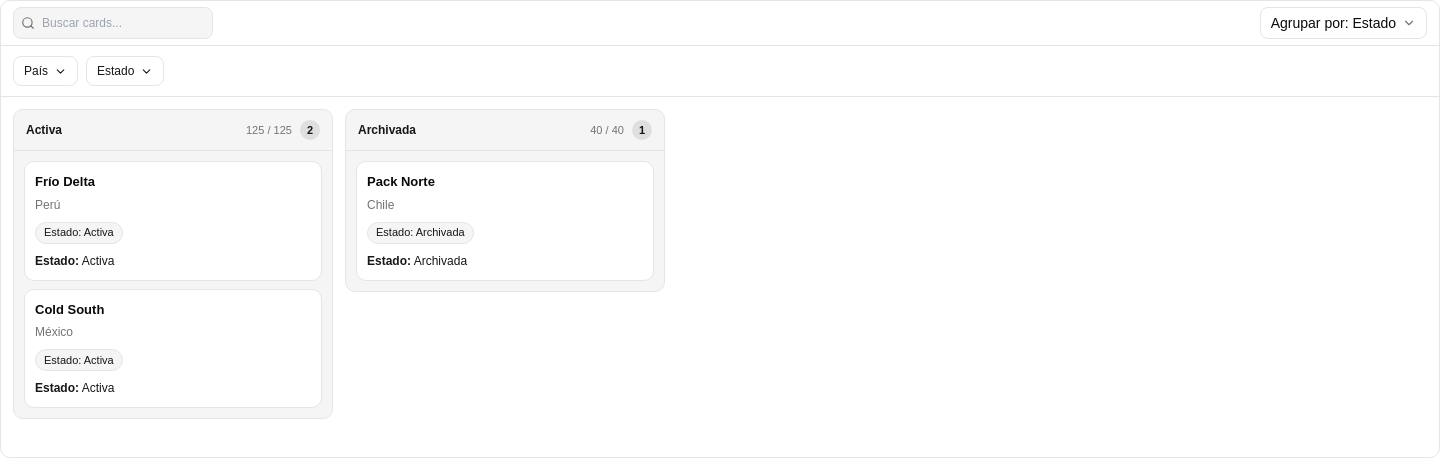
sums the visible cards and every card of the column while a search is active
Expected: the text with class "gdy-kanban-column-extra" reads "125 / 125", x1=246 y1=124 x2=292 y2=136
In the search field: (113, 23) x1=13 y1=7 x2=213 y2=39, type "frío"
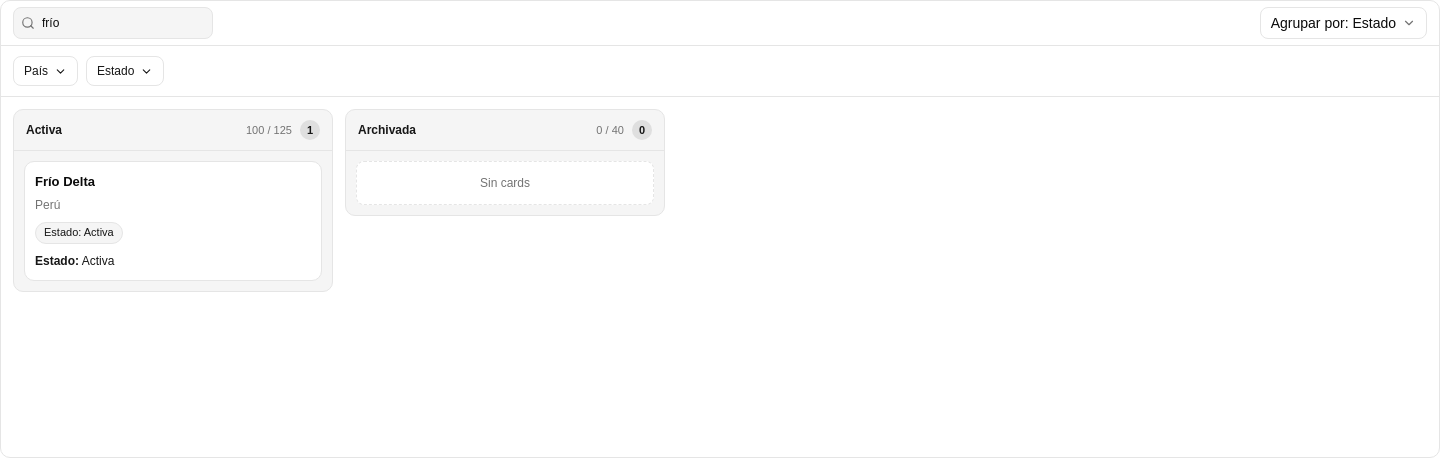
Result: the text with class "gdy-kanban-column-extra" reads "100 / 125" at x1=246 y1=124 x2=292 y2=136
